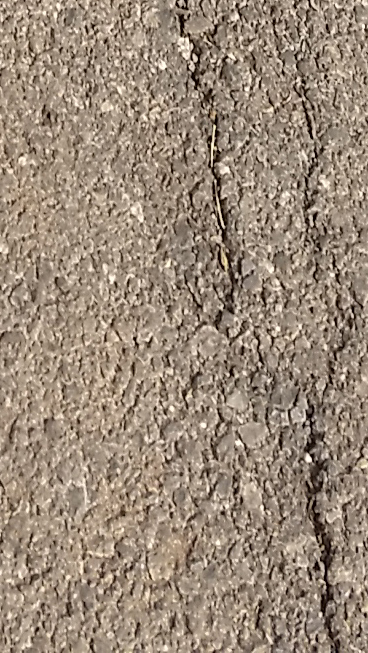A: (143, 7, 363, 648)
